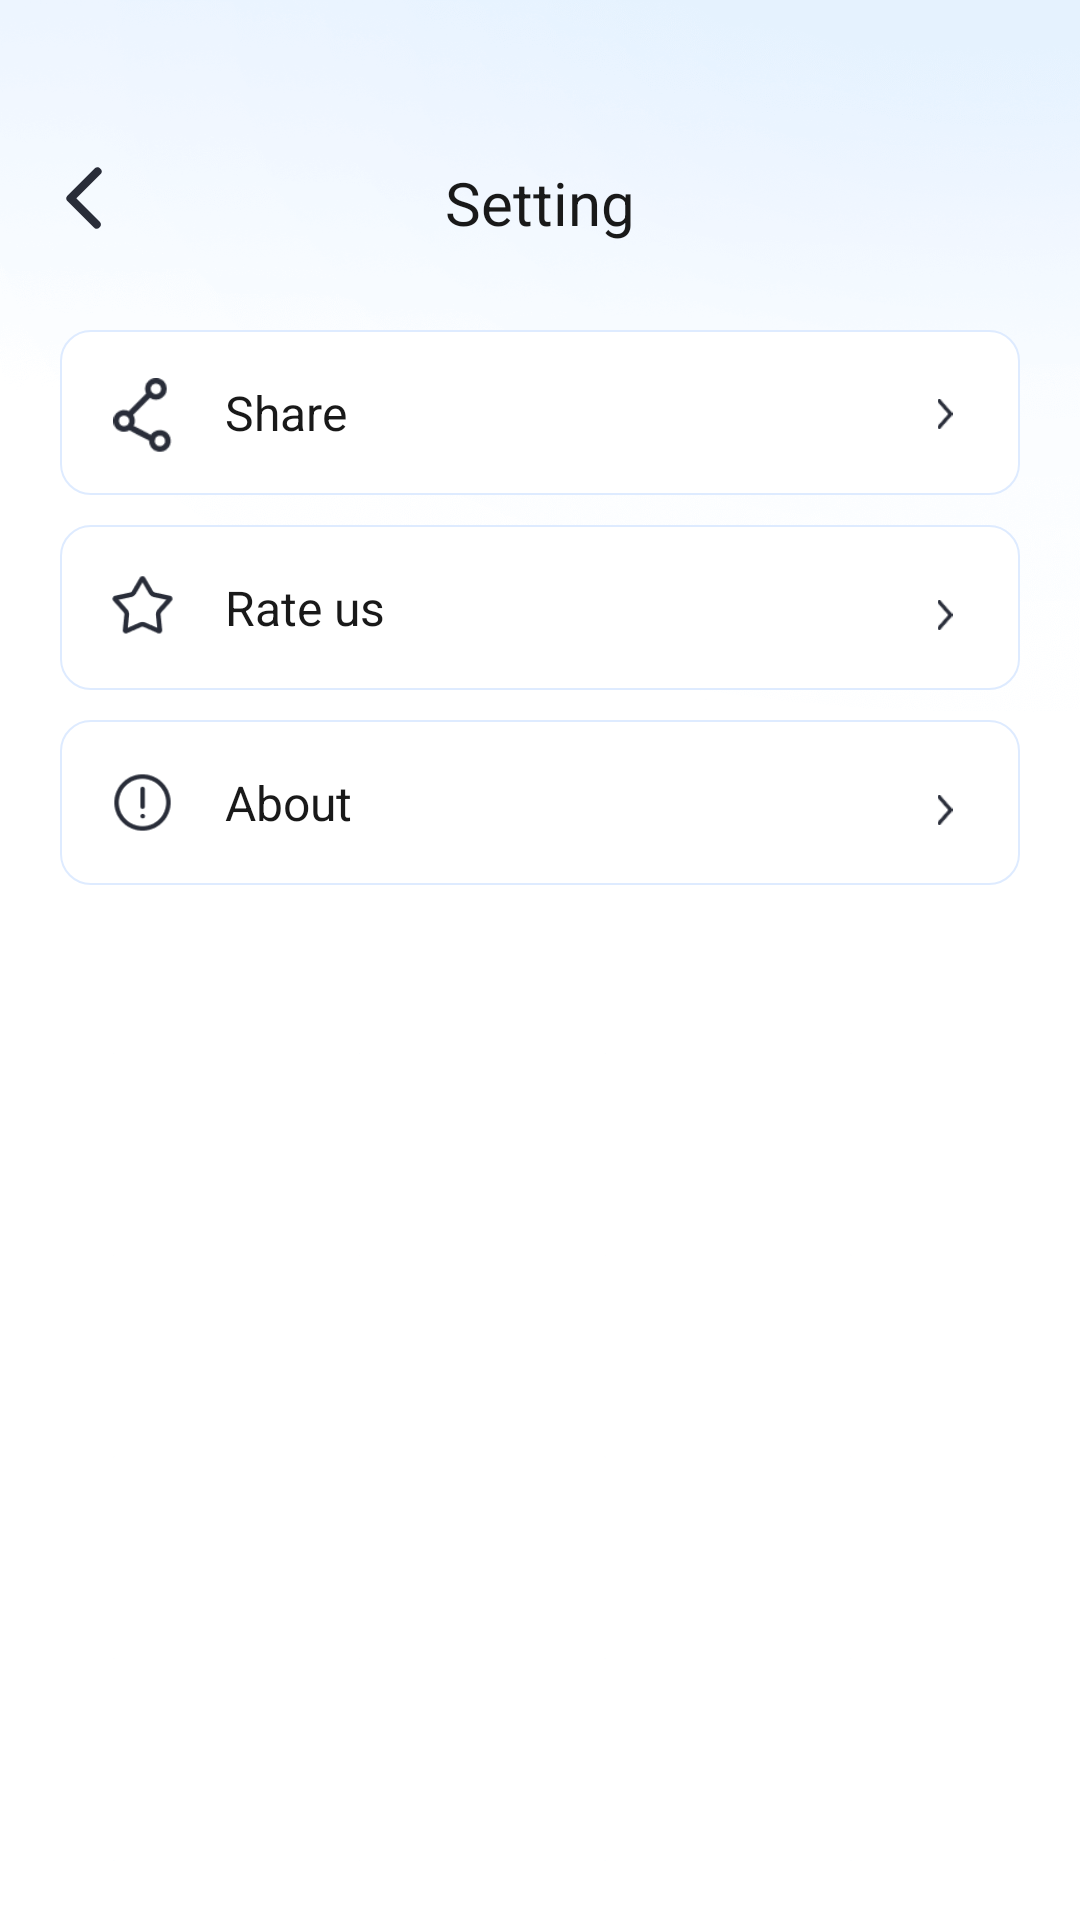

Icons on this 1080×1920 Android screen, each with the point to tap as [x,y]:
back: [84,198]
tonext: [945,414], [945,615], [945,810]
